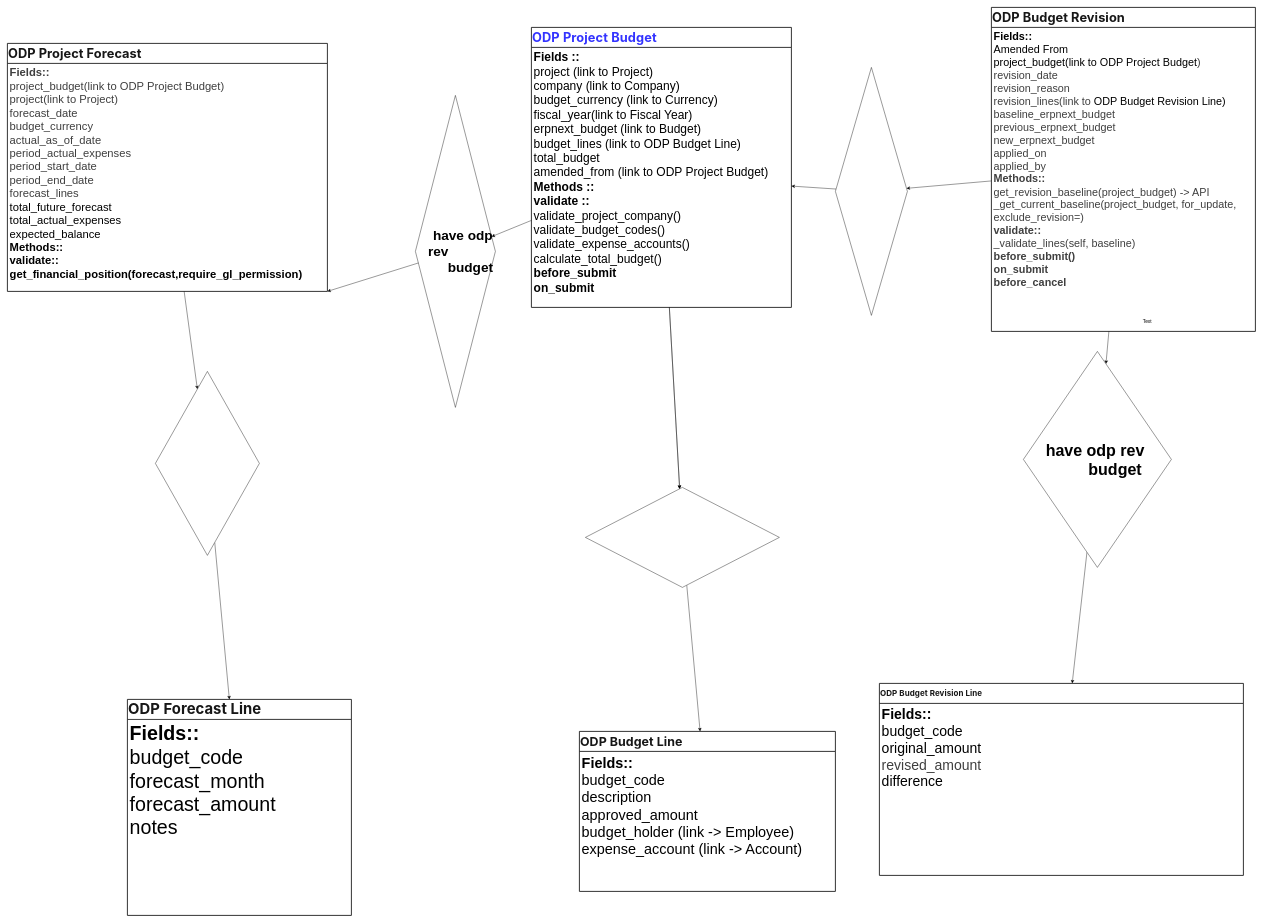
The diagram is 1262 pixels wide and 922 high, and some of its shapes have lost their labels. Each missing label, with the centre of its shape:
"has ODP forecast line" goes at (207,463).
"have budget line" goes at (682,537).
"have prev budget" goes at (871,191).
